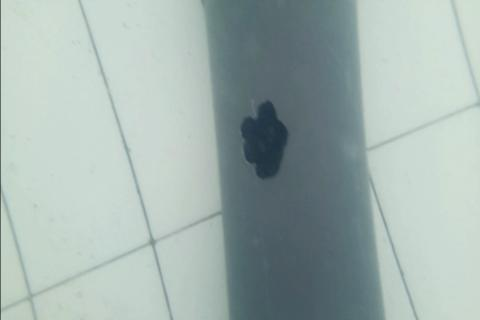kebocoran: (238, 97, 289, 183)
